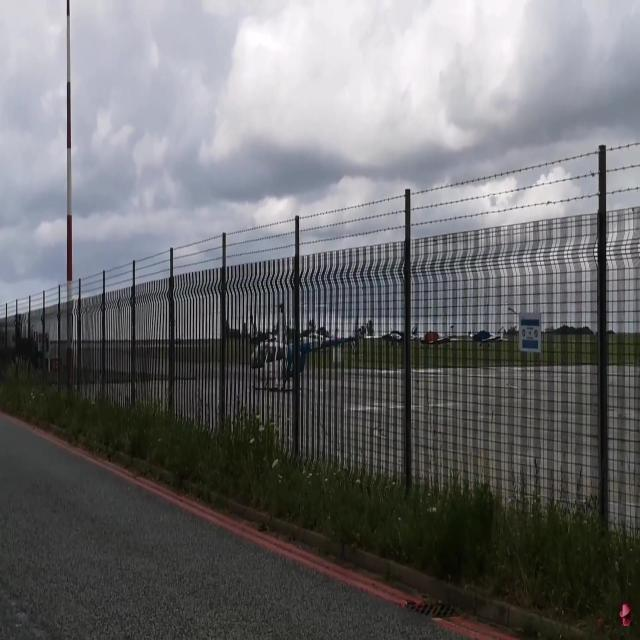CIV_HELO: (249, 302, 361, 394)
